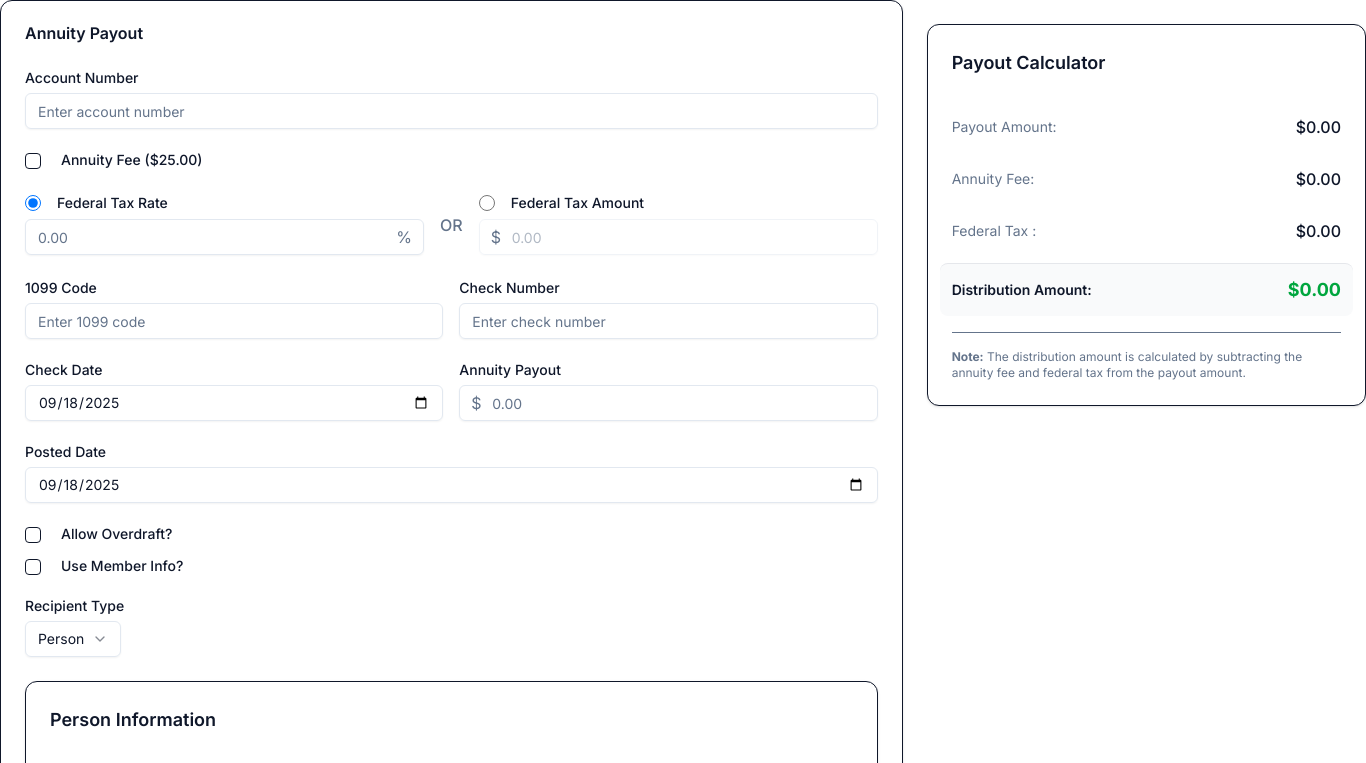
AnnuityPayoutForm › validates federal tax requirement
Fill other required fields but not federal tax
Type "123456" into the field labelled "Account Number". click: (451, 111)
box: left=25, top=93, right=878, bottom=129
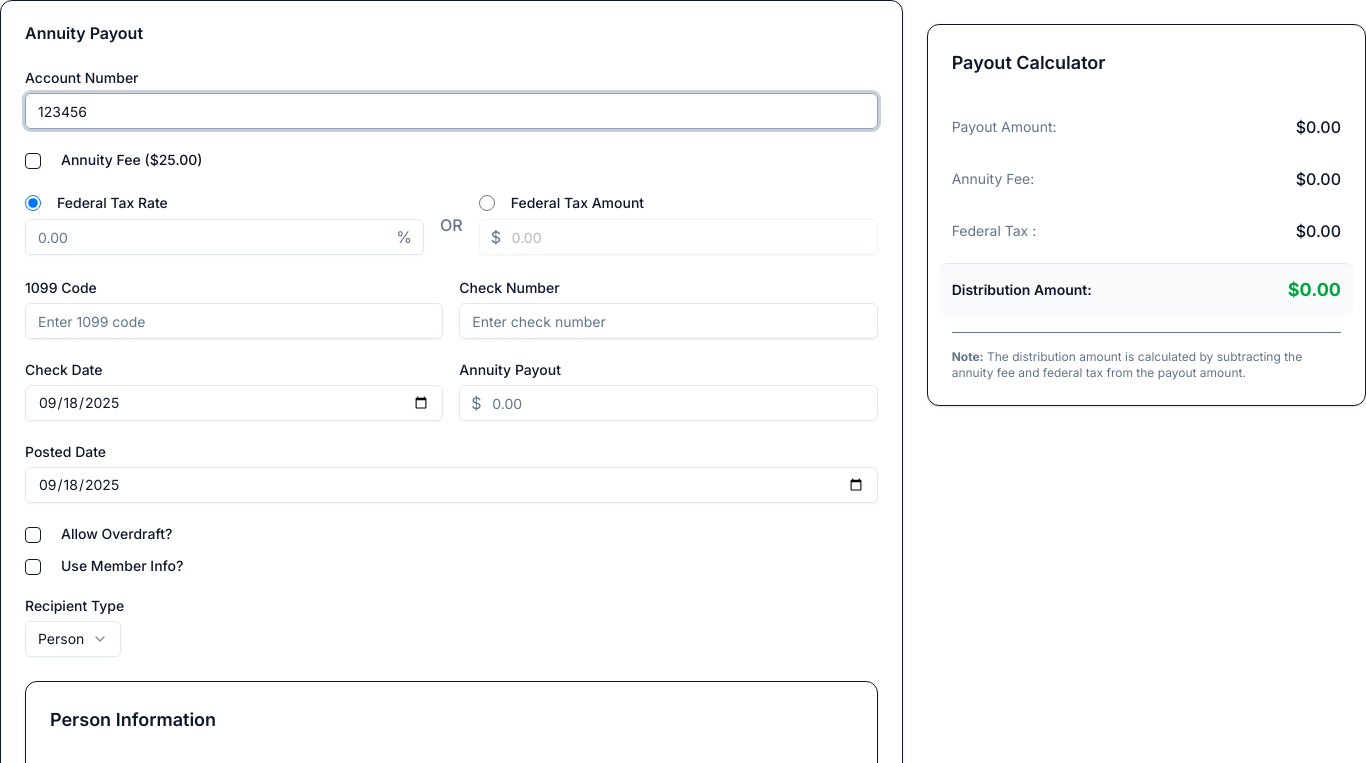
Type "1000" into the number field named "annuity payout". click: (668, 403)
box: left=459, top=385, right=878, bottom=421
(page scrolled)
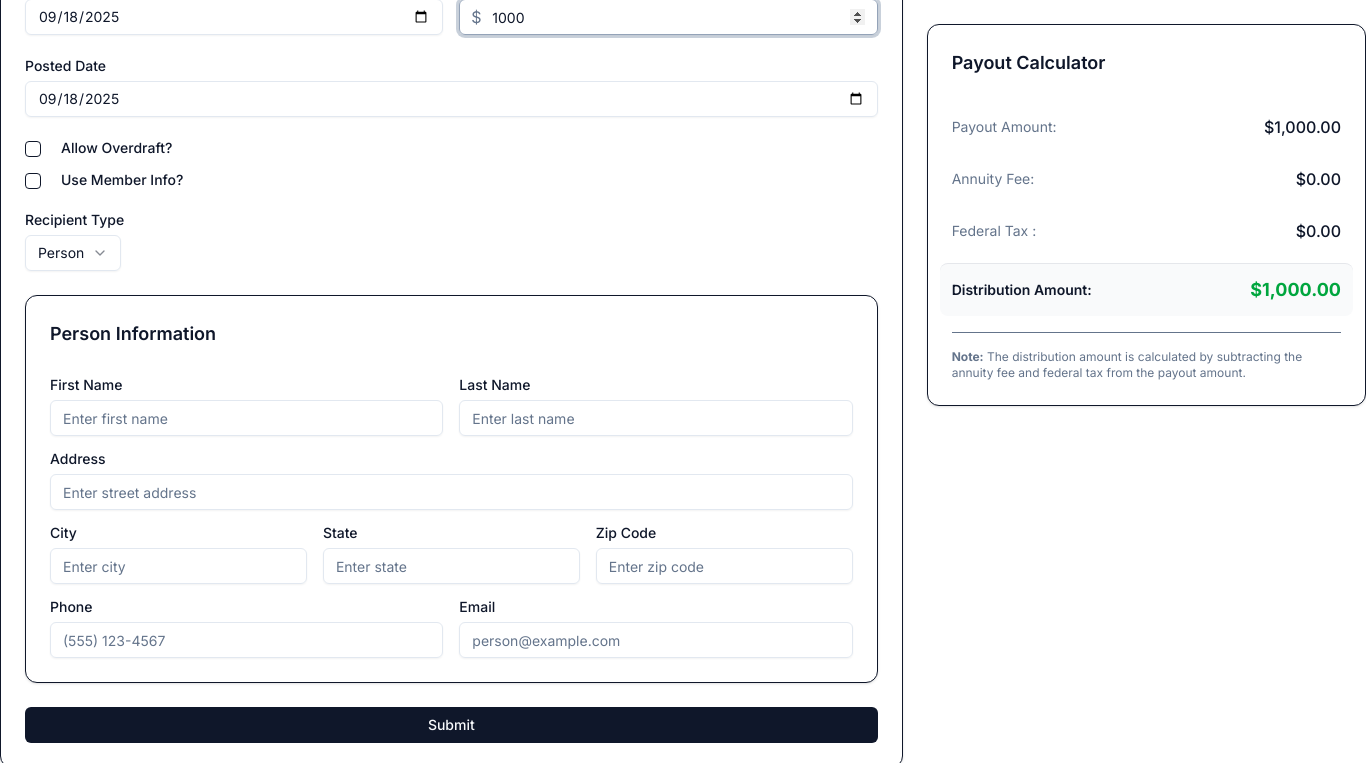
Click the button "Submit". click: (451, 725)
box: left=25, top=707, right=878, bottom=743
(page scrolled)
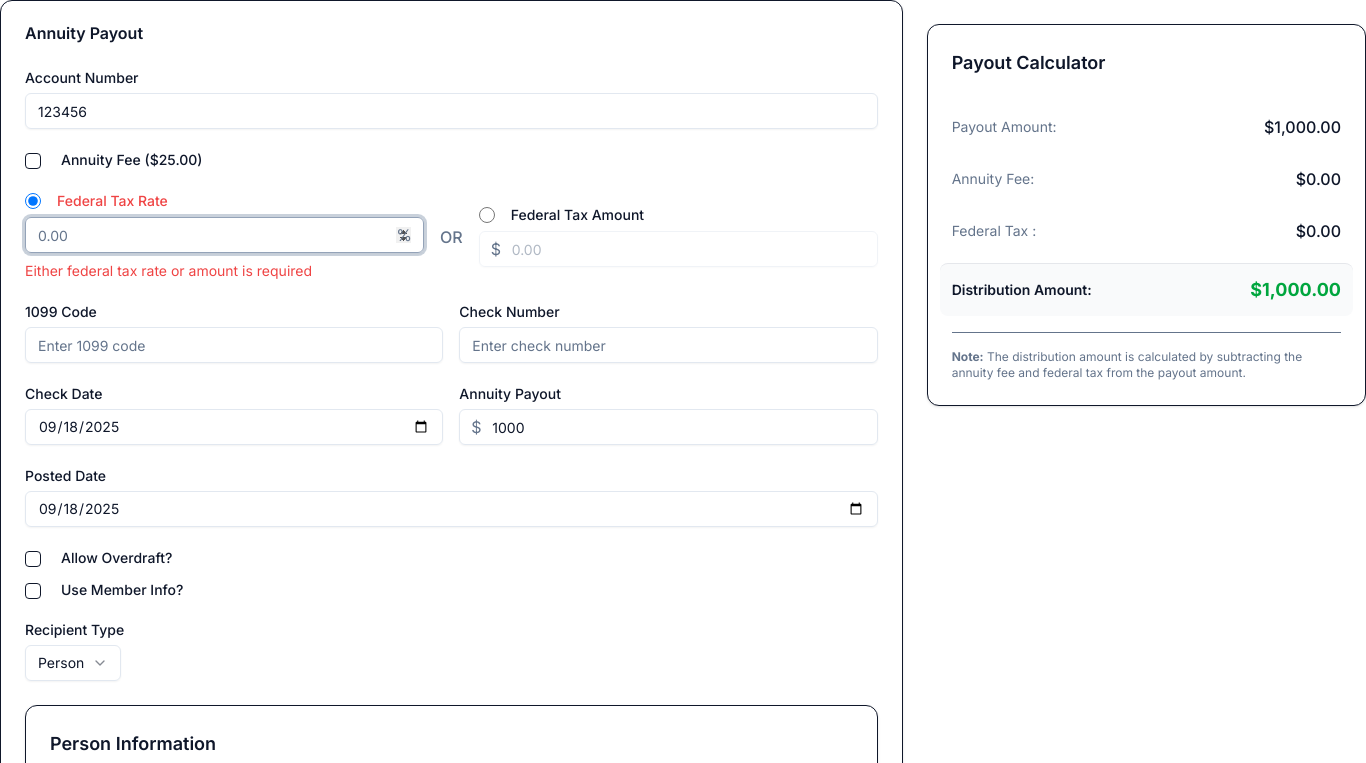
Expected: the text "Either federal tax rate or amount is required" is shown, left=25, top=262, right=312, bottom=279
